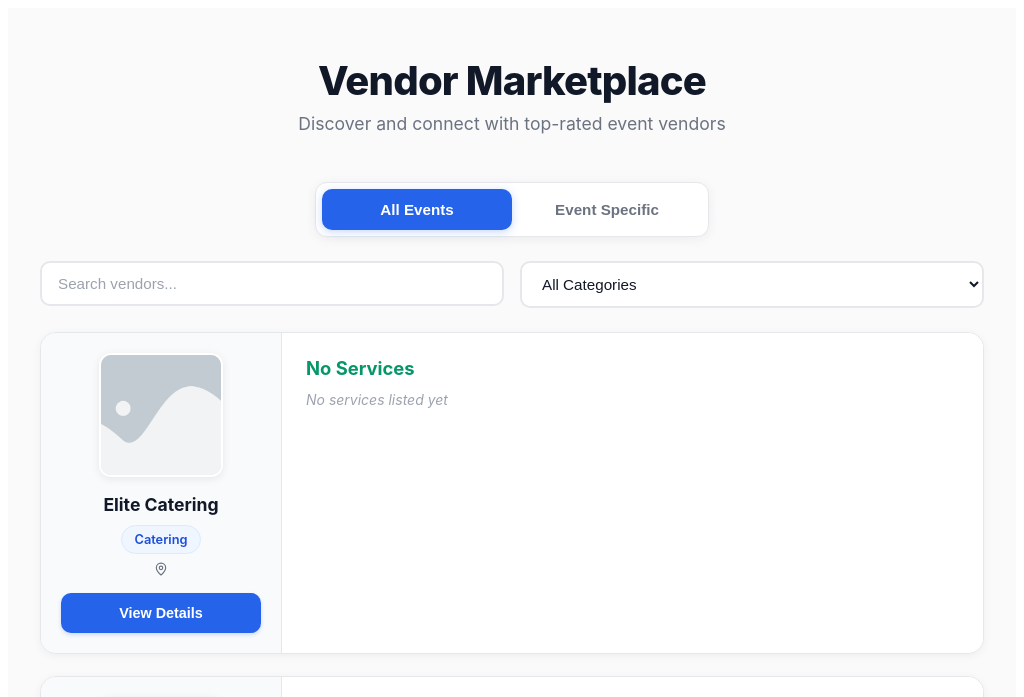
PlannerVendorMarketplace › filters vendors by search term
Expected: the heading "Elite Catering" is shown, [103,494,219,515]
In the field with placeholder "Search vendors...": (272, 284) [40,261,504,306], type "Dream"
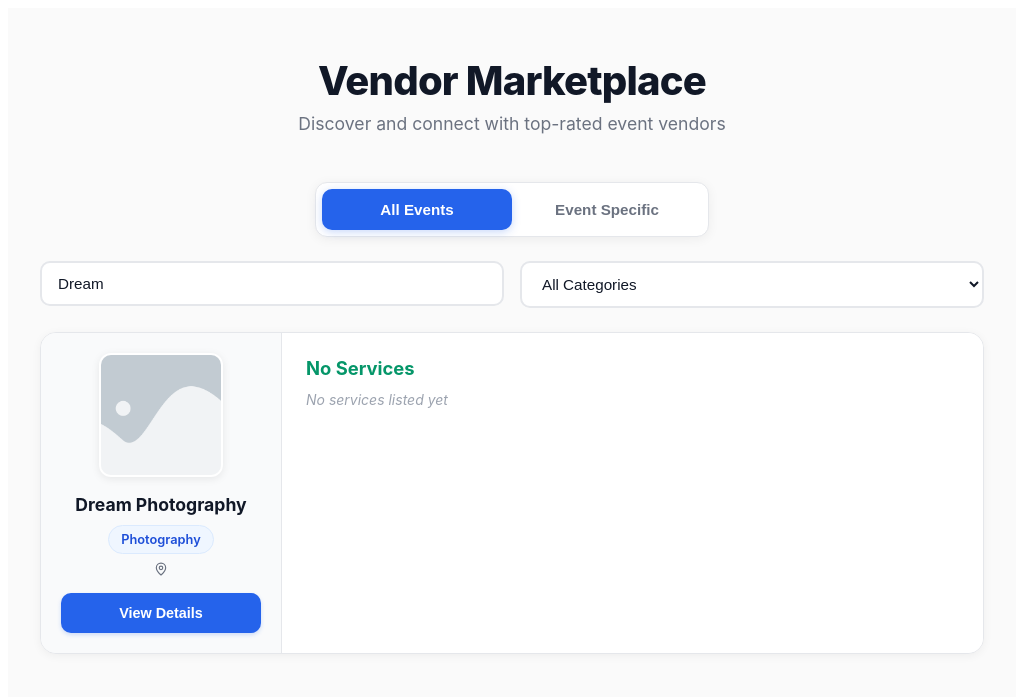
Expected: the heading "Dream Photography" is shown, [61,494,261,517]
Expected: the heading "Elite Catering" is gone
